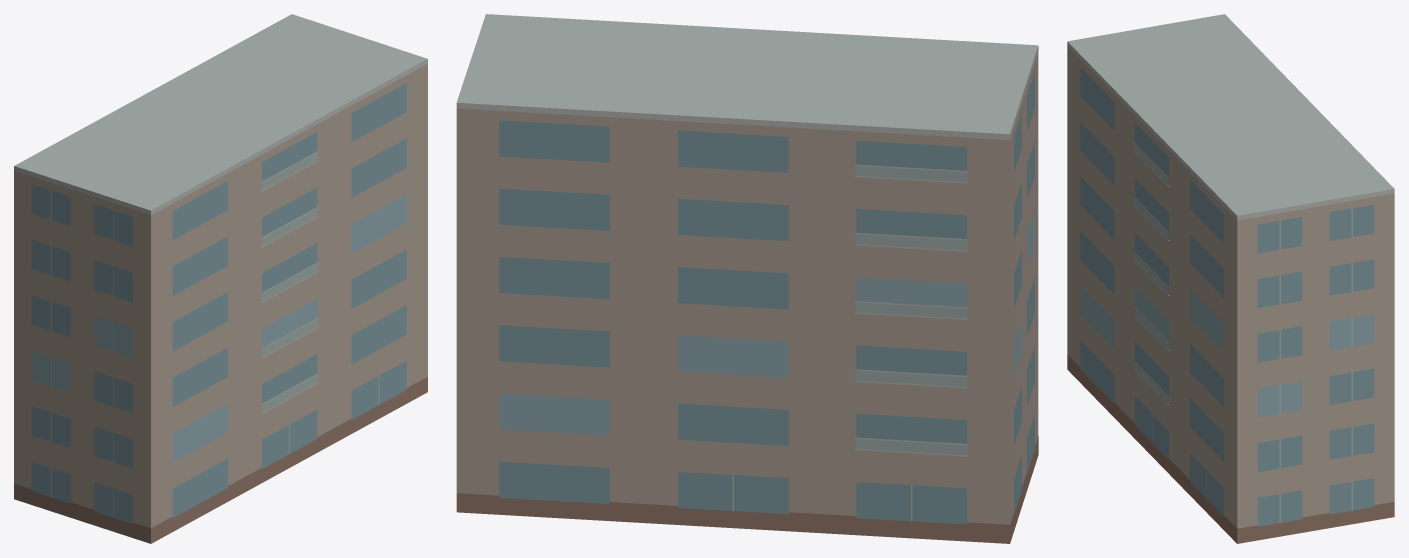
File: survey-upis-32703437.glb
3 renders of one model, left to right at view 1: azimuth 30°, elevation 25°; view 2: azimuth 150°, elevation 25°; view 3: azimuth 270°, elevation 25°, orthographic. The views are drawn at different scales.
Visible parts, largest first — view 1: survey-upis-32703437.tmp; view 2: survey-upis-32703437.tmp; view 3: survey-upis-32703437.tmp.
Part boxes in pixels (x1,y1,x2,y2): survey-upis-32703437.tmp: [14, 14, 427, 543]; survey-upis-32703437.tmp: [456, 14, 1038, 543]; survey-upis-32703437.tmp: [1067, 14, 1394, 543].
Size of the model in its own units: 22.9 by 17.35 by 15.7.
